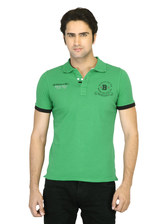clothoes: (23, 56, 142, 186)
